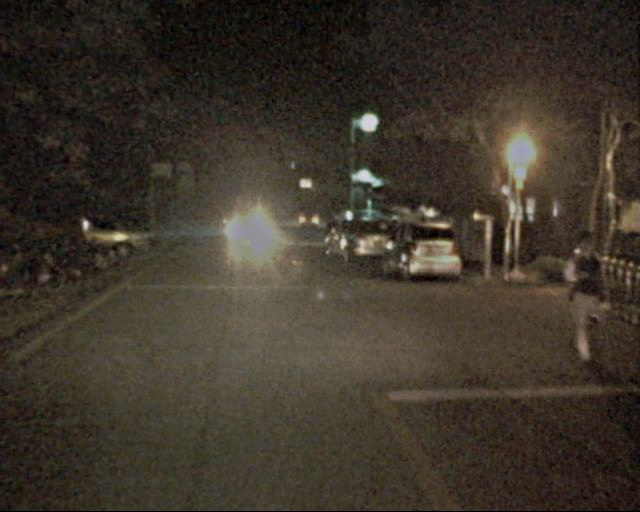person: (552, 233, 613, 362)
